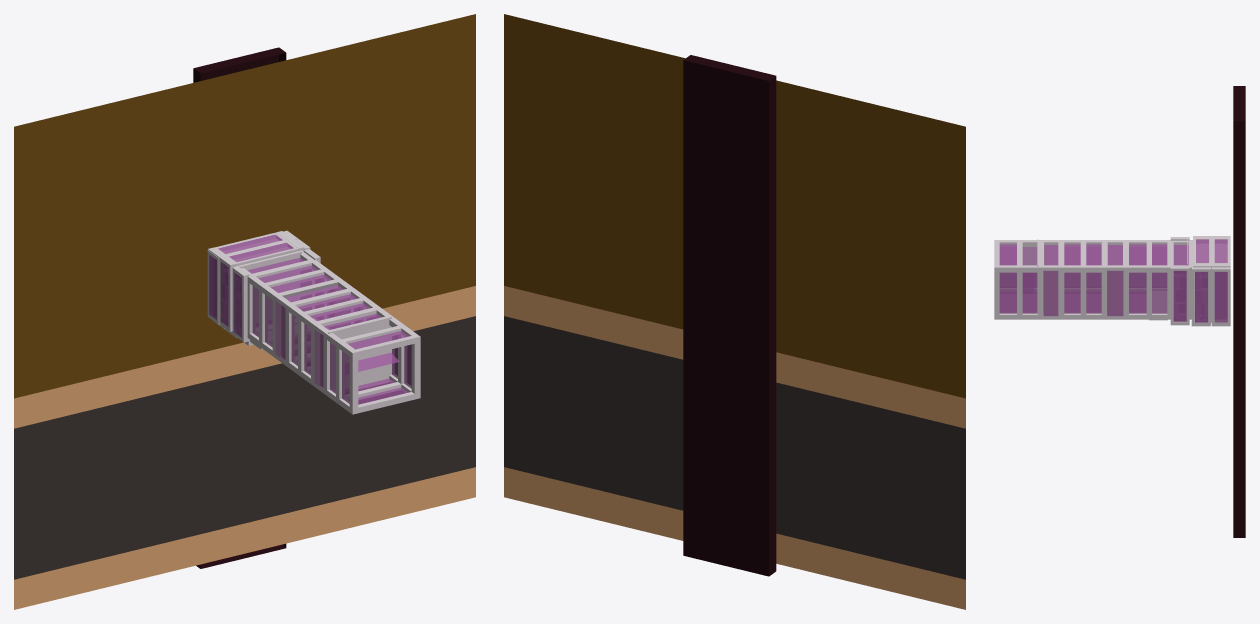
Rendered from Quake Building1.fbx.
3 renders of one model, left to right at view 1: azimuth 30°, elevation 25°; view 2: azimuth 150°, elevation 25°; view 3: azimuth 270°, elevation 25°, orthographic. The views are drawn at different scales.
Visible parts, largest first — view 1: Ground, Wobble_Building, Cube, Plane.002, Cube.004, Cube.008, Cube.005, Cube.017, Cube.009; view 2: Ground, Cube; view 3: Wobble_Building, Cube, Cube.003, Cube.016, Cube.015, Cube.006, Cube.004, Cube.008, Cube.014.
Part boxes in pixels (x1,y1,x2,y2): Ground: (14,14,475,609); Wobble_Building: (235,250,420,414); Cube: (193,47,286,568); Plane.002: (240,251,301,322); Cube.004: (214,232,287,259); Cube.008: (225,240,298,266); Cube.005: (207,250,219,324); Cube.017: (232,266,248,342); Cube.009: (219,256,235,331); Ground: (504,14,965,609); Cube: (683,55,776,576); Wobble_Building: (994,239,1192,319); Cube: (1233,86,1245,537); Cube.003: (1211,267,1230,325); Cube.016: (1170,266,1189,324); Cube.015: (1192,267,1210,324); Cube.006: (1211,264,1230,322); Cube.004: (1211,238,1230,263); Cube.008: (1193,238,1211,263); Cube.014: (1149,291,1167,320).
Size of the model in its own units: 7296 by 7480 by 4083.
